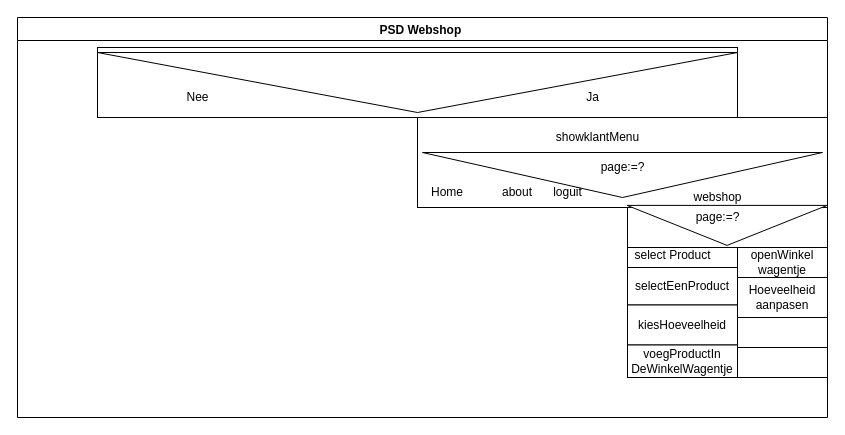
Some shapes in this 845 by 435 pixel diagram are drawn without their labels. Each missing label, with the centre of its shape:
afrekenen: [782,332]
Klant Ingelogd?: [417,82]
